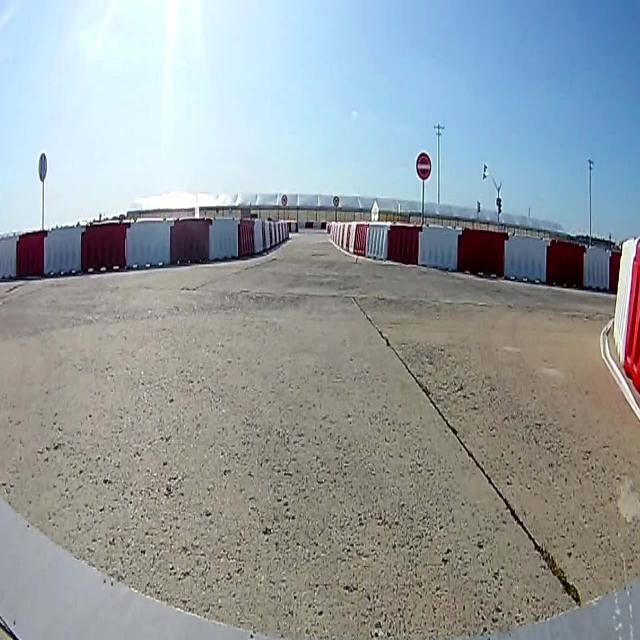girisyok: (415, 150, 431, 178)
